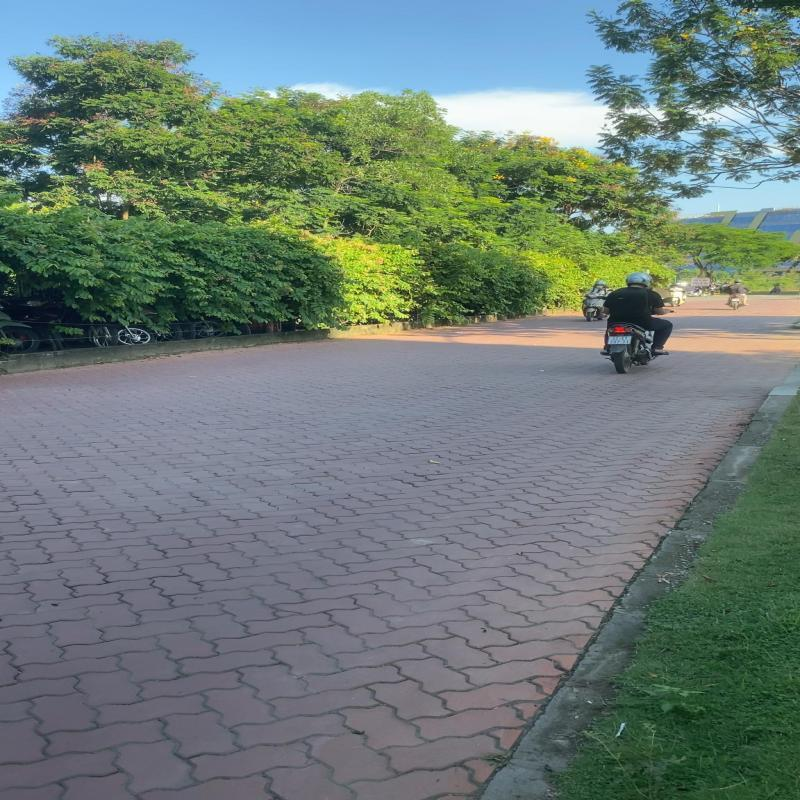helmet: (624, 272, 653, 286)
licenseplate: (608, 336, 632, 344)
motorcyclist: (602, 272, 674, 374)
